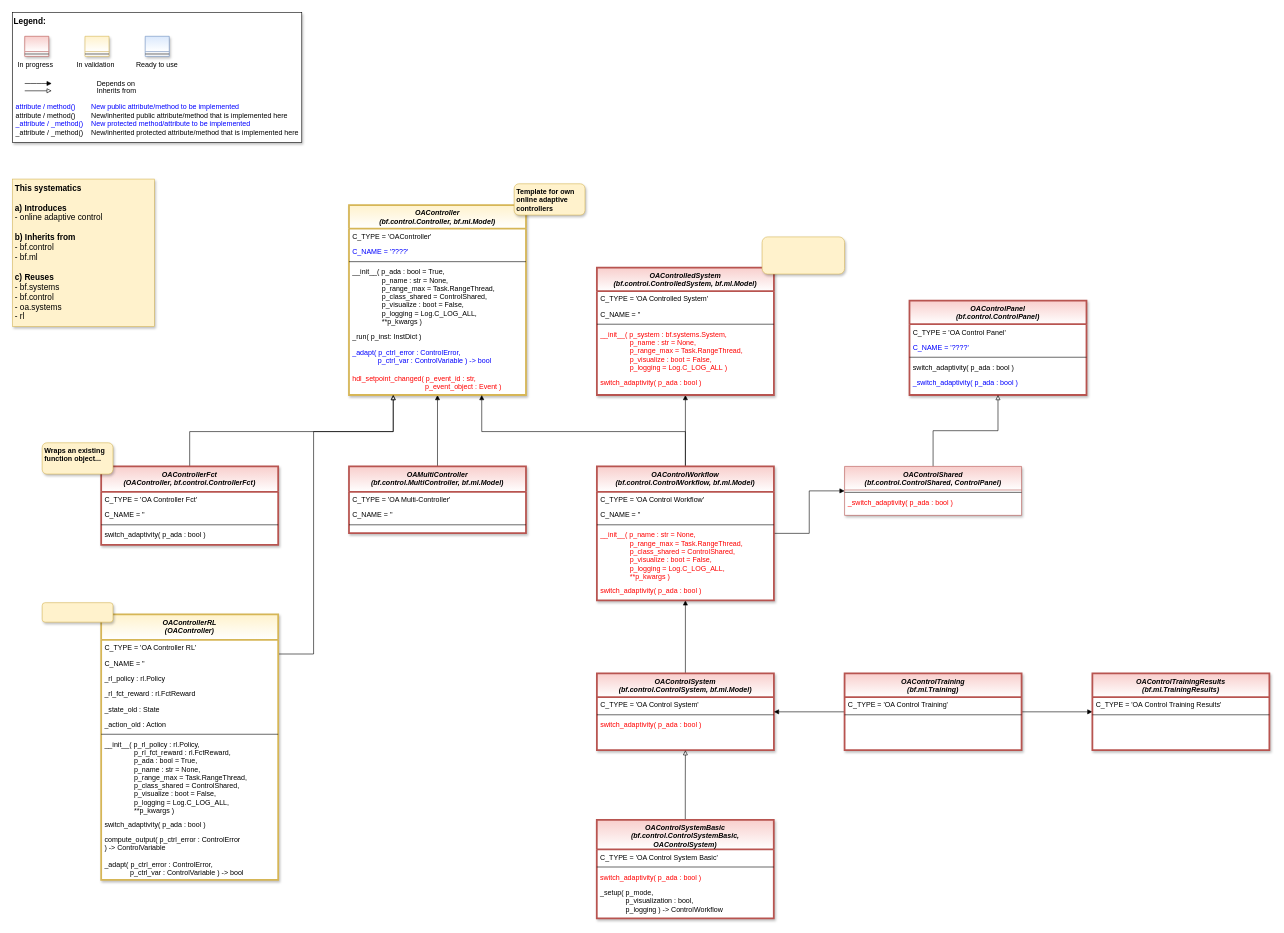
Some shapes in this 1284 by 933 pixel diagram are drawn without their labels. Each missing label, with the centre of its shape:
Wraps a RL policy...: [78,613]
Wraps online adaptive systems from sub-framework oa.systems: [803,256]
